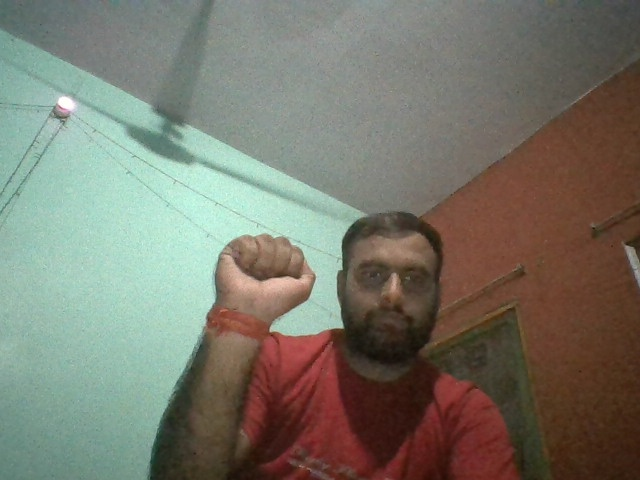goodbye: (213, 235, 317, 314)
